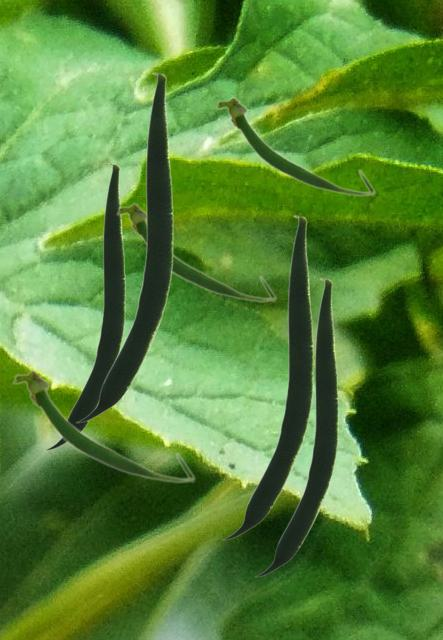french_bean: (75, 72, 172, 422), (222, 215, 312, 539), (254, 278, 337, 576), (45, 163, 124, 449), (11, 368, 195, 483), (214, 95, 375, 196), (115, 201, 276, 302)
